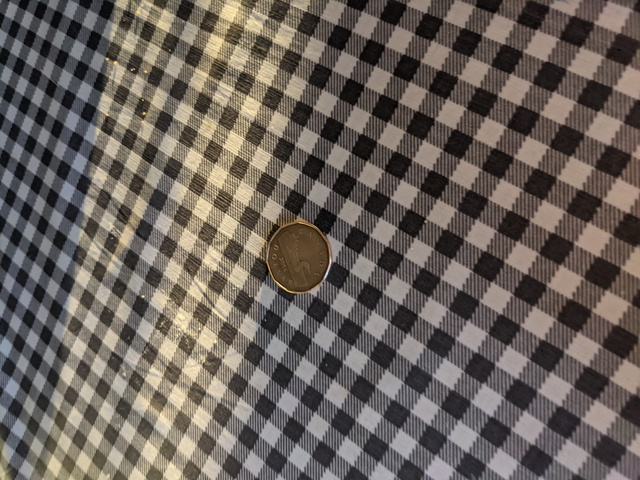loonie: (266, 219, 342, 293)
